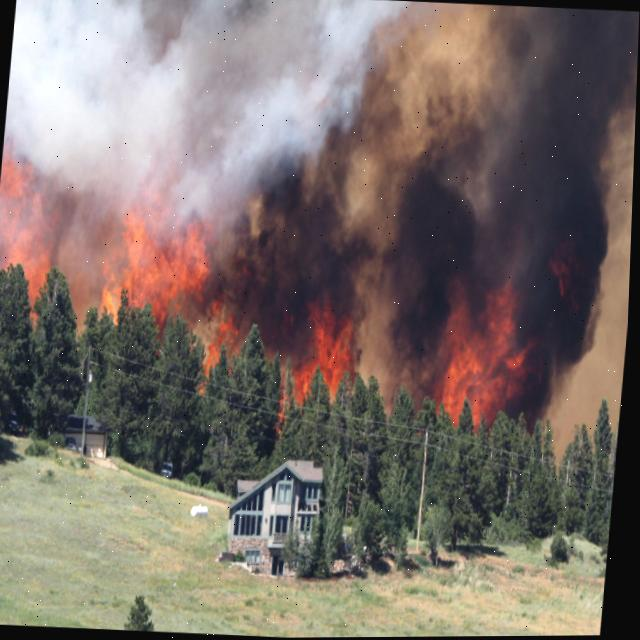fire: (6, 0, 640, 437), (0, 150, 248, 337), (443, 283, 524, 421)
smoke: (5, 0, 640, 442)
